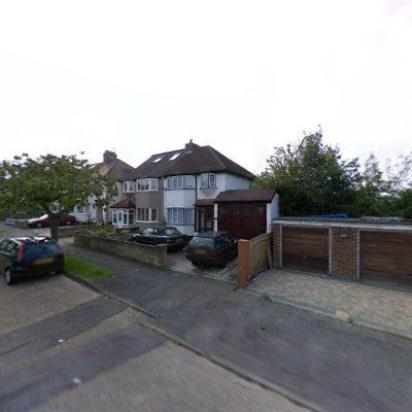stationary-car-offstreet: (186, 229, 238, 269), (125, 222, 184, 252), (25, 211, 77, 231)
stationary-car-onstreet: (0, 234, 64, 285)
